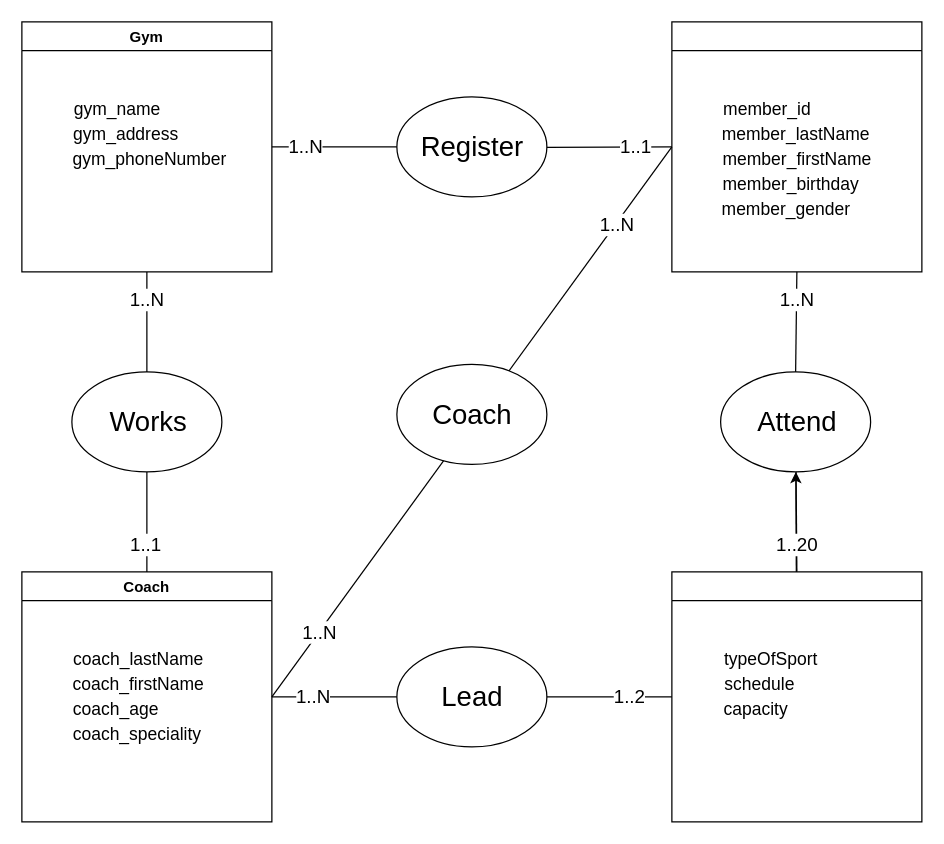
This 944x844 diagram has some shape labels left out. The shapes that lost their labels are listed below. From the top down, each one's box as (x1, y1, x2, y2) in pixels, then its label:
(671, 21, 922, 272): Members
(671, 571, 922, 822): Session
